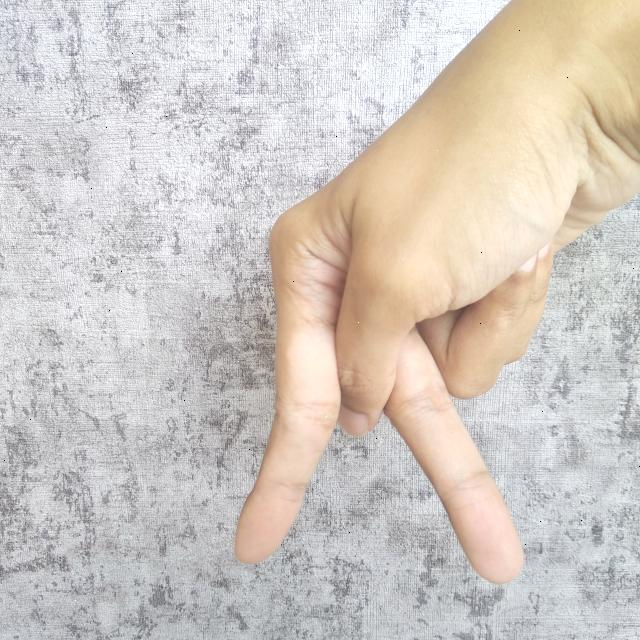P: (218, 0, 640, 595)
